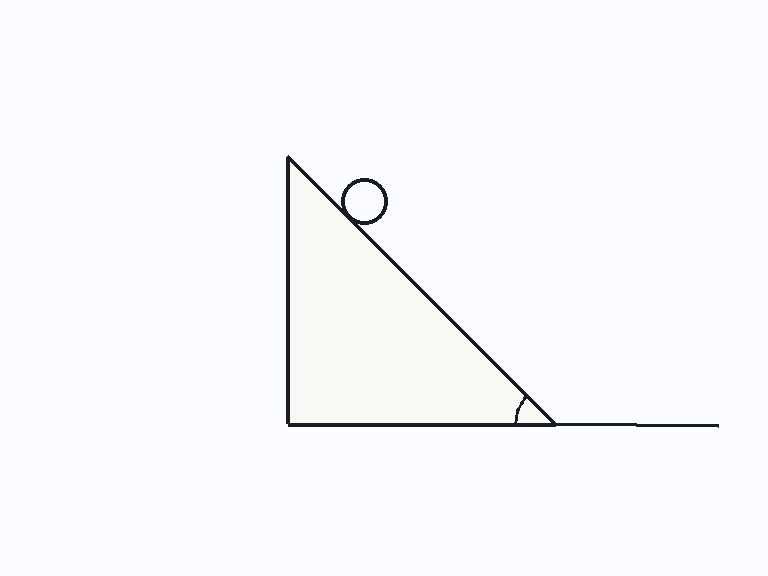ball: (339, 176, 389, 226)
ramp: (285, 154, 557, 426)
